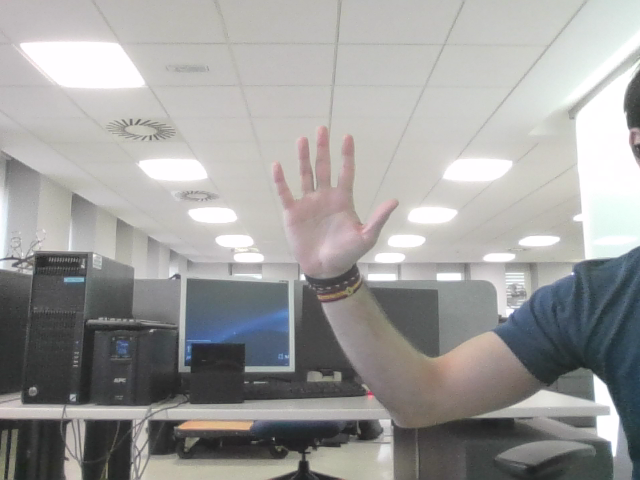Mano Abierta: (281, 138, 385, 252)
